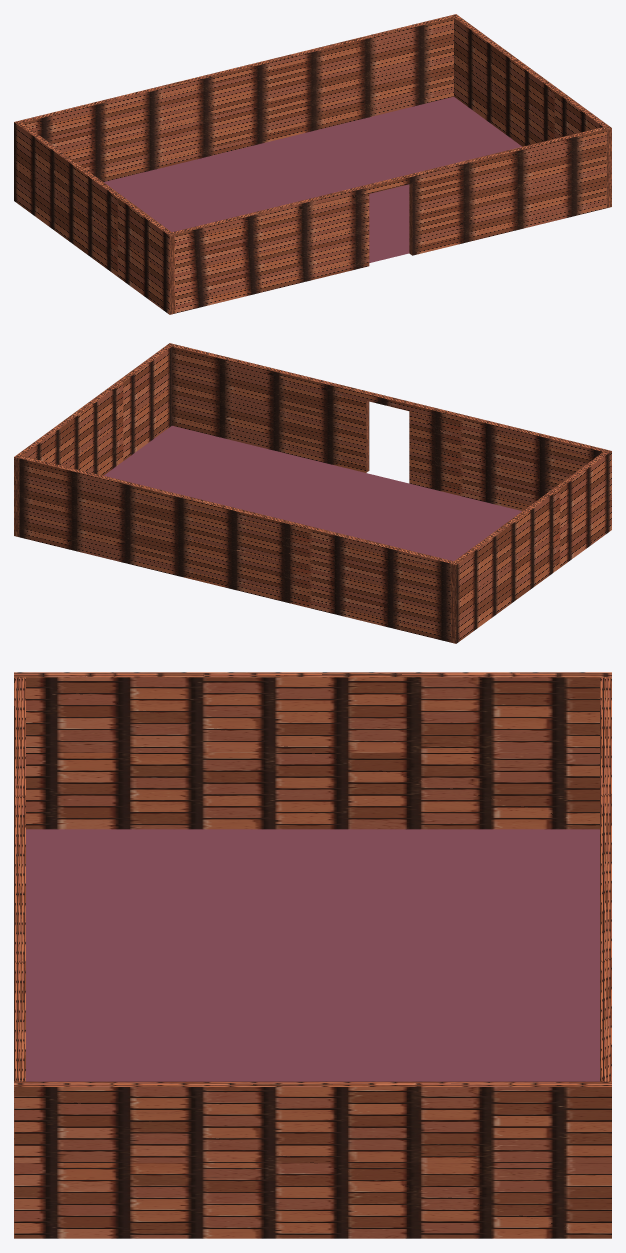
Rendered from Cafe.gltf.
3 renders of one model, top to bottom at view 1: azimuth 30°, elevation 25°; view 2: azimuth 150°, elevation 25°; view 3: azimuth 270°, elevation 25°, orthographic. The views are drawn at different scales.
Visible parts, largest first — view 1: Front Wall, Back Wall, Floor, Left Wall, Right Wall; view 2: Back Wall, Front Wall, Floor, Left Wall, Right Wall; view 3: Floor, Right Wall, Left Wall, Front Wall, Back Wall.
Part boxes in pixels (<box>): Front Wall: <box>172,127,606,313</box>; Back Wall: <box>20,15,453,181</box>; Floor: <box>104,96,521,262</box>; Left Wall: <box>14,120,174,314</box>; Right Wall: <box>451,14,611,207</box>; Back Wall: <box>19,456,453,642</box>; Front Wall: <box>172,344,605,510</box>; Floor: <box>104,425,521,561</box>; Left Wall: <box>451,449,611,643</box>; Right Wall: <box>14,343,174,536</box>; Floor: <box>26,829,599,1081</box>; Right Wall: <box>14,1081,611,1238</box>; Left Wall: <box>14,672,611,829</box>; Front Wall: <box>14,677,25,1081</box>; Back Wall: <box>600,677,611,1081</box>.
Bounding box in the file's own units: 20.5 × 3.5 × 12.5.
Materials: 3 (2 with a texture image).
